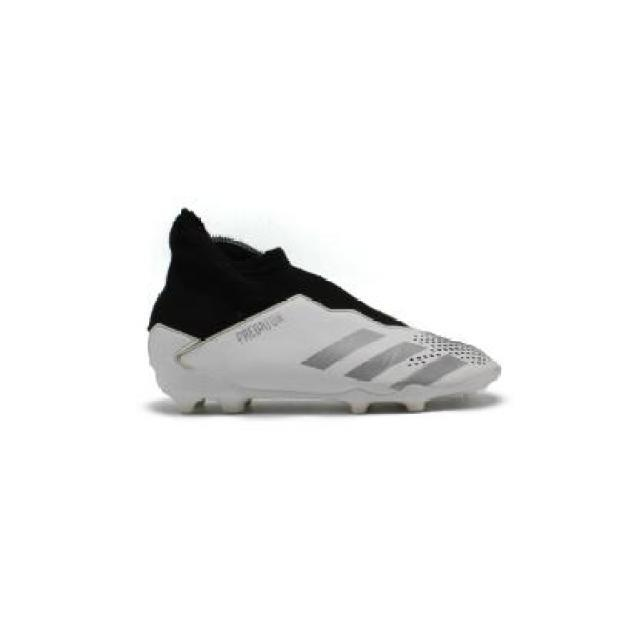Adidas: (296, 323, 471, 404)
